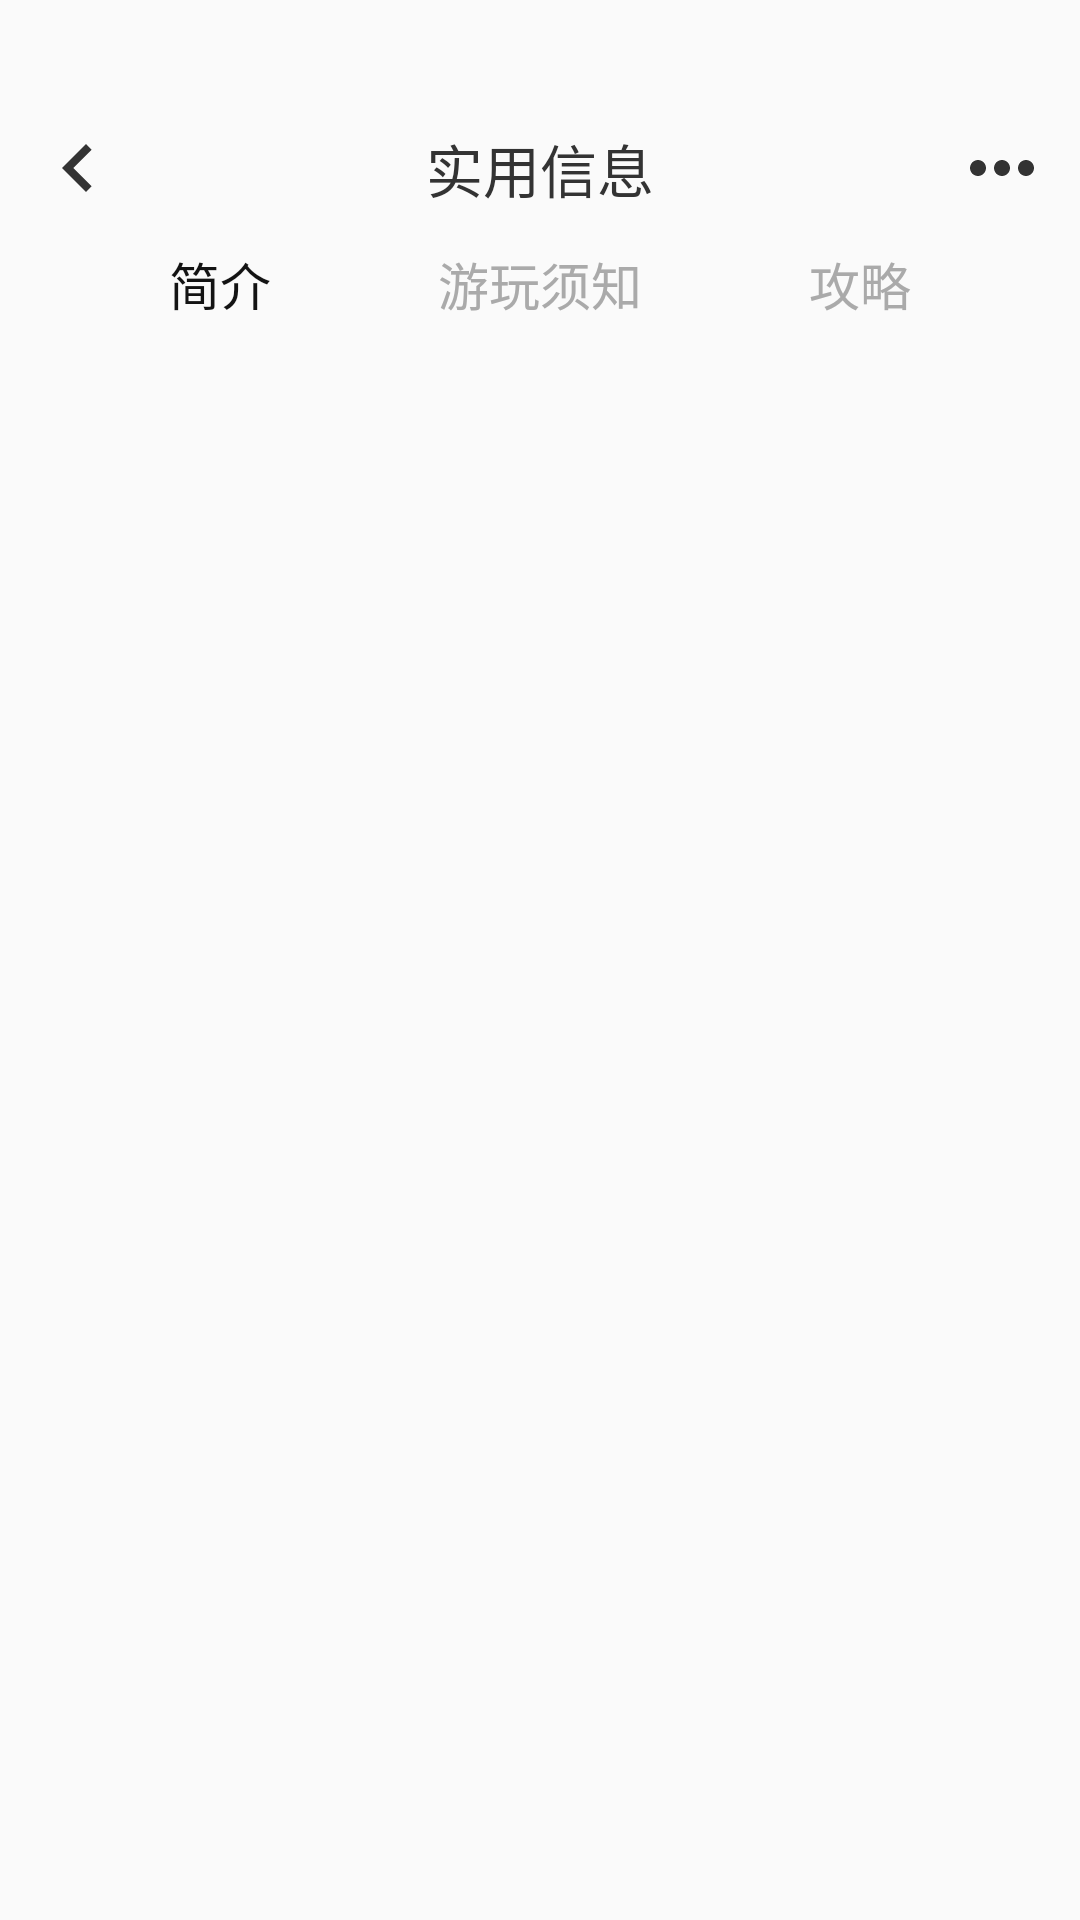

Screen size 1080*1920. Icon name, then its box in pixels as [x1=x1, y1=y1, x2=x2, y2=y2]:
more horiz: [x1=970, y1=160, x2=1034, y2=176]
navigate before: [x1=62, y1=144, x2=92, y2=192]
